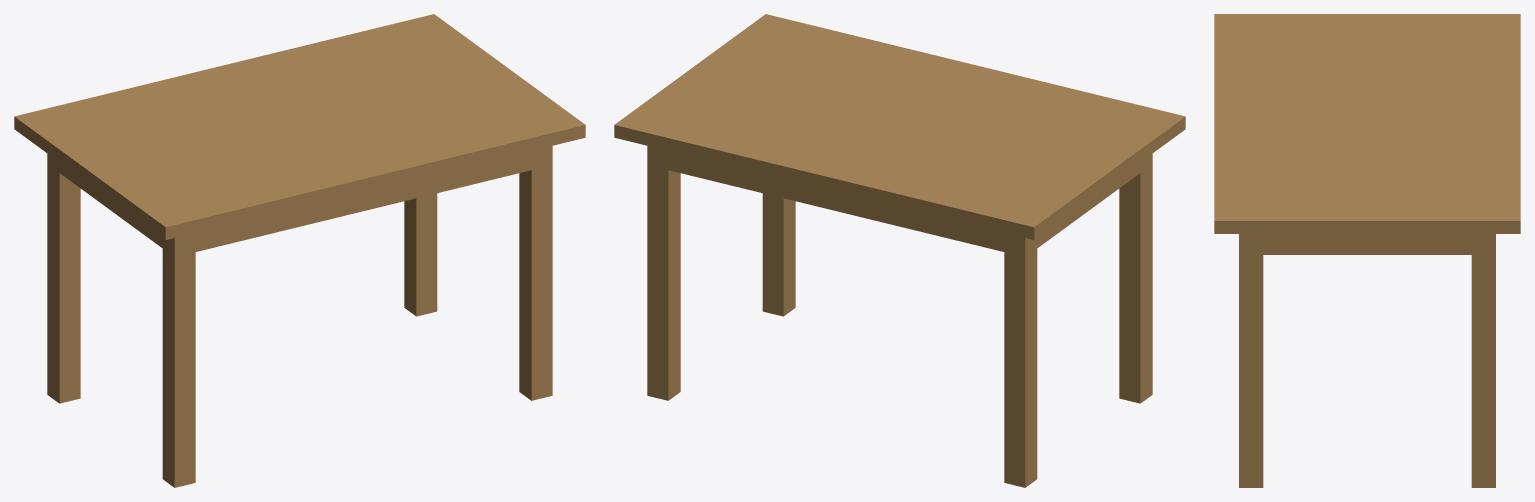
Rendered from parametric-table-2nd-pub.glb.
3 views of the same model, side by side, from view 1: azimuth 30°, elevation 25°; view 2: azimuth 150°, elevation 25°; view 3: azimuth 270°, elevation 25° (orthographic).
Visible parts, largest first — view 1: parametric-table-2nd-pub; view 2: parametric-table-2nd-pub; view 3: parametric-table-2nd-pub.
Boxes of the visible parts, x1,y1,x2,y2 form: parametric-table-2nd-pub: (14, 14, 585, 487); parametric-table-2nd-pub: (614, 14, 1185, 487); parametric-table-2nd-pub: (1214, 14, 1520, 487).
Size of the model in its own units: 1.2 by 0.75 by 0.75.
